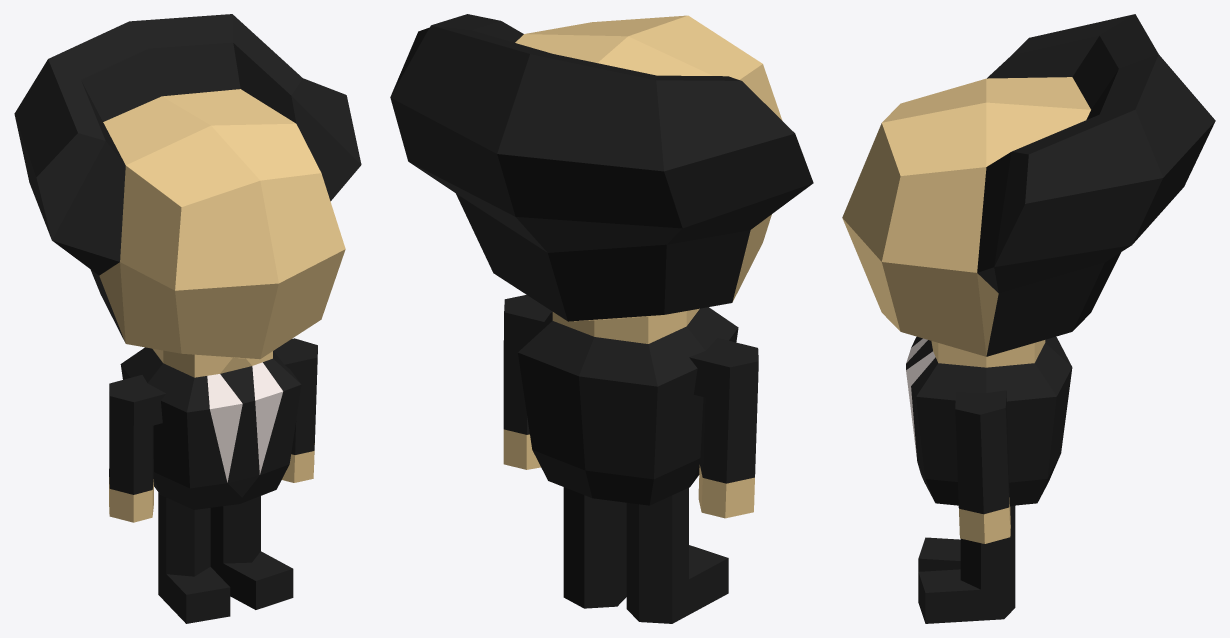
File: DE BROGLIE - objeto único - v01.glb
3 renders of one model, left to right at view 1: azimuth 30°, elevation 25°; view 2: azimuth 150°, elevation 25°; view 3: azimuth 270°, elevation 25°, orthographic. The views are drawn at different scales.
Visible parts, largest first — view 1: Cube.012; view 2: Cube.012; view 3: Cube.012.
Boxes of the visible parts, x1=… form: Cube.012: x1=14, y1=14, x2=361, y2=623; Cube.012: x1=390, y1=14, x2=813, y2=623; Cube.012: x1=842, y1=14, x2=1215, y2=623.
Bounding box in the file's own units: 0.6823 × 1.07 × 0.6702.
1 material, 1 textured.
